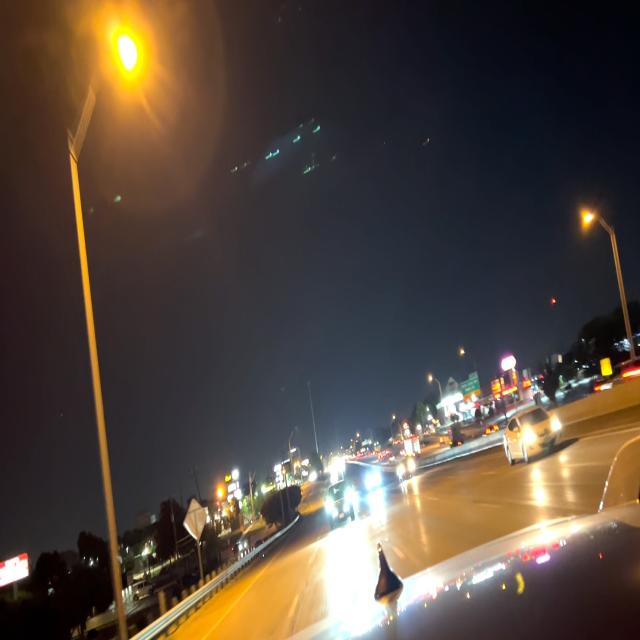back-of-sign: (185, 497, 207, 541)
